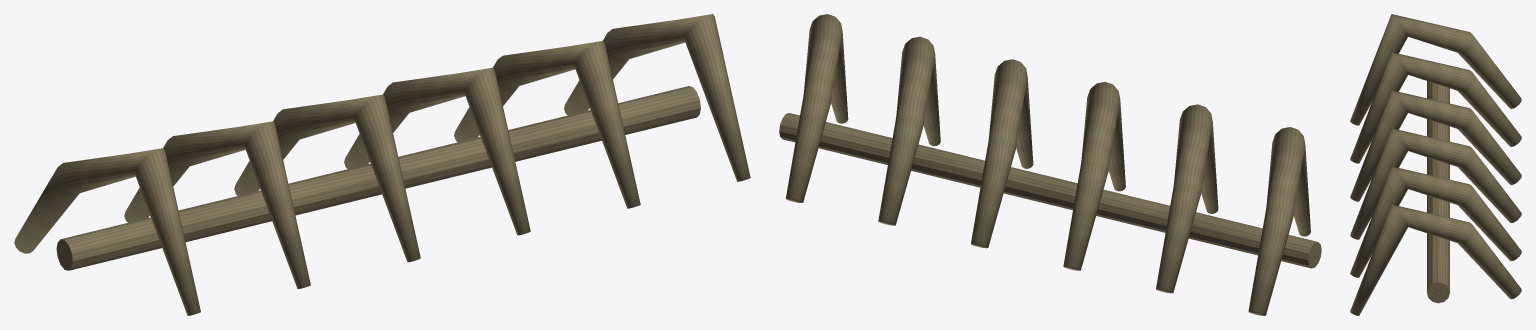
The model's file is stilt_root_tangle_module_swamp_and_mangrove_22616.glb.
3 renders of one model, left to right at view 1: azimuth 30°, elevation 25°; view 2: azimuth 150°, elevation 25°; view 3: azimuth 270°, elevation 25°, orthographic. The views are drawn at different scales.
Parts seen in each view (by area): view 1: stilt-root-module_6, stilt-root-module_0, stilt-root-module_1, stilt-root-module_4, stilt-root-module_5, stilt-root-module_3, stilt-root-module_2; view 2: stilt-root-module_6, stilt-root-module_3, stilt-root-module_5, stilt-root-module_1, stilt-root-module_4, stilt-root-module_0, stilt-root-module_2; view 3: stilt-root-module_5, stilt-root-module_4, stilt-root-module_0, stilt-root-module_1, stilt-root-module_3, stilt-root-module_2, stilt-root-module_6.
Boxes of the visible parts, x1=… form: stilt-root-module_6: x1=56, y1=86, x2=700, y2=270; stilt-root-module_0: x1=14, y1=148, x2=200, y2=315; stilt-root-module_1: x1=124, y1=121, x2=310, y2=288; stilt-root-module_4: x1=454, y1=41, x2=640, y2=208; stilt-root-module_5: x1=564, y1=14, x2=750, y2=181; stilt-root-module_3: x1=344, y1=67, x2=530, y2=235; stilt-root-module_2: x1=234, y1=94, x2=420, y2=262; stilt-root-module_6: x1=779, y1=113, x2=1321, y2=268; stilt-root-module_3: x1=971, y1=59, x2=1033, y2=248; stilt-root-module_5: x1=785, y1=14, x2=848, y2=202; stilt-root-module_1: x1=1156, y1=104, x2=1218, y2=293; stilt-root-module_4: x1=878, y1=36, x2=940, y2=225; stilt-root-module_0: x1=1248, y1=127, x2=1310, y2=315; stilt-root-module_2: x1=1063, y1=82, x2=1125, y2=270; stilt-root-module_5: x1=1350, y1=204, x2=1521, y2=315; stilt-root-module_4: x1=1350, y1=166, x2=1521, y2=277; stilt-root-module_0: x1=1350, y1=14, x2=1521, y2=125; stilt-root-module_1: x1=1350, y1=52, x2=1521, y2=163; stilt-root-module_3: x1=1350, y1=128, x2=1521, y2=239; stilt-root-module_2: x1=1350, y1=90, x2=1521, y2=201; stilt-root-module_6: x1=1427, y1=81, x2=1449, y2=303.
Size of the model in its own units: 4 by 0.9294 by 1.33.
1 material, 1 textured.
